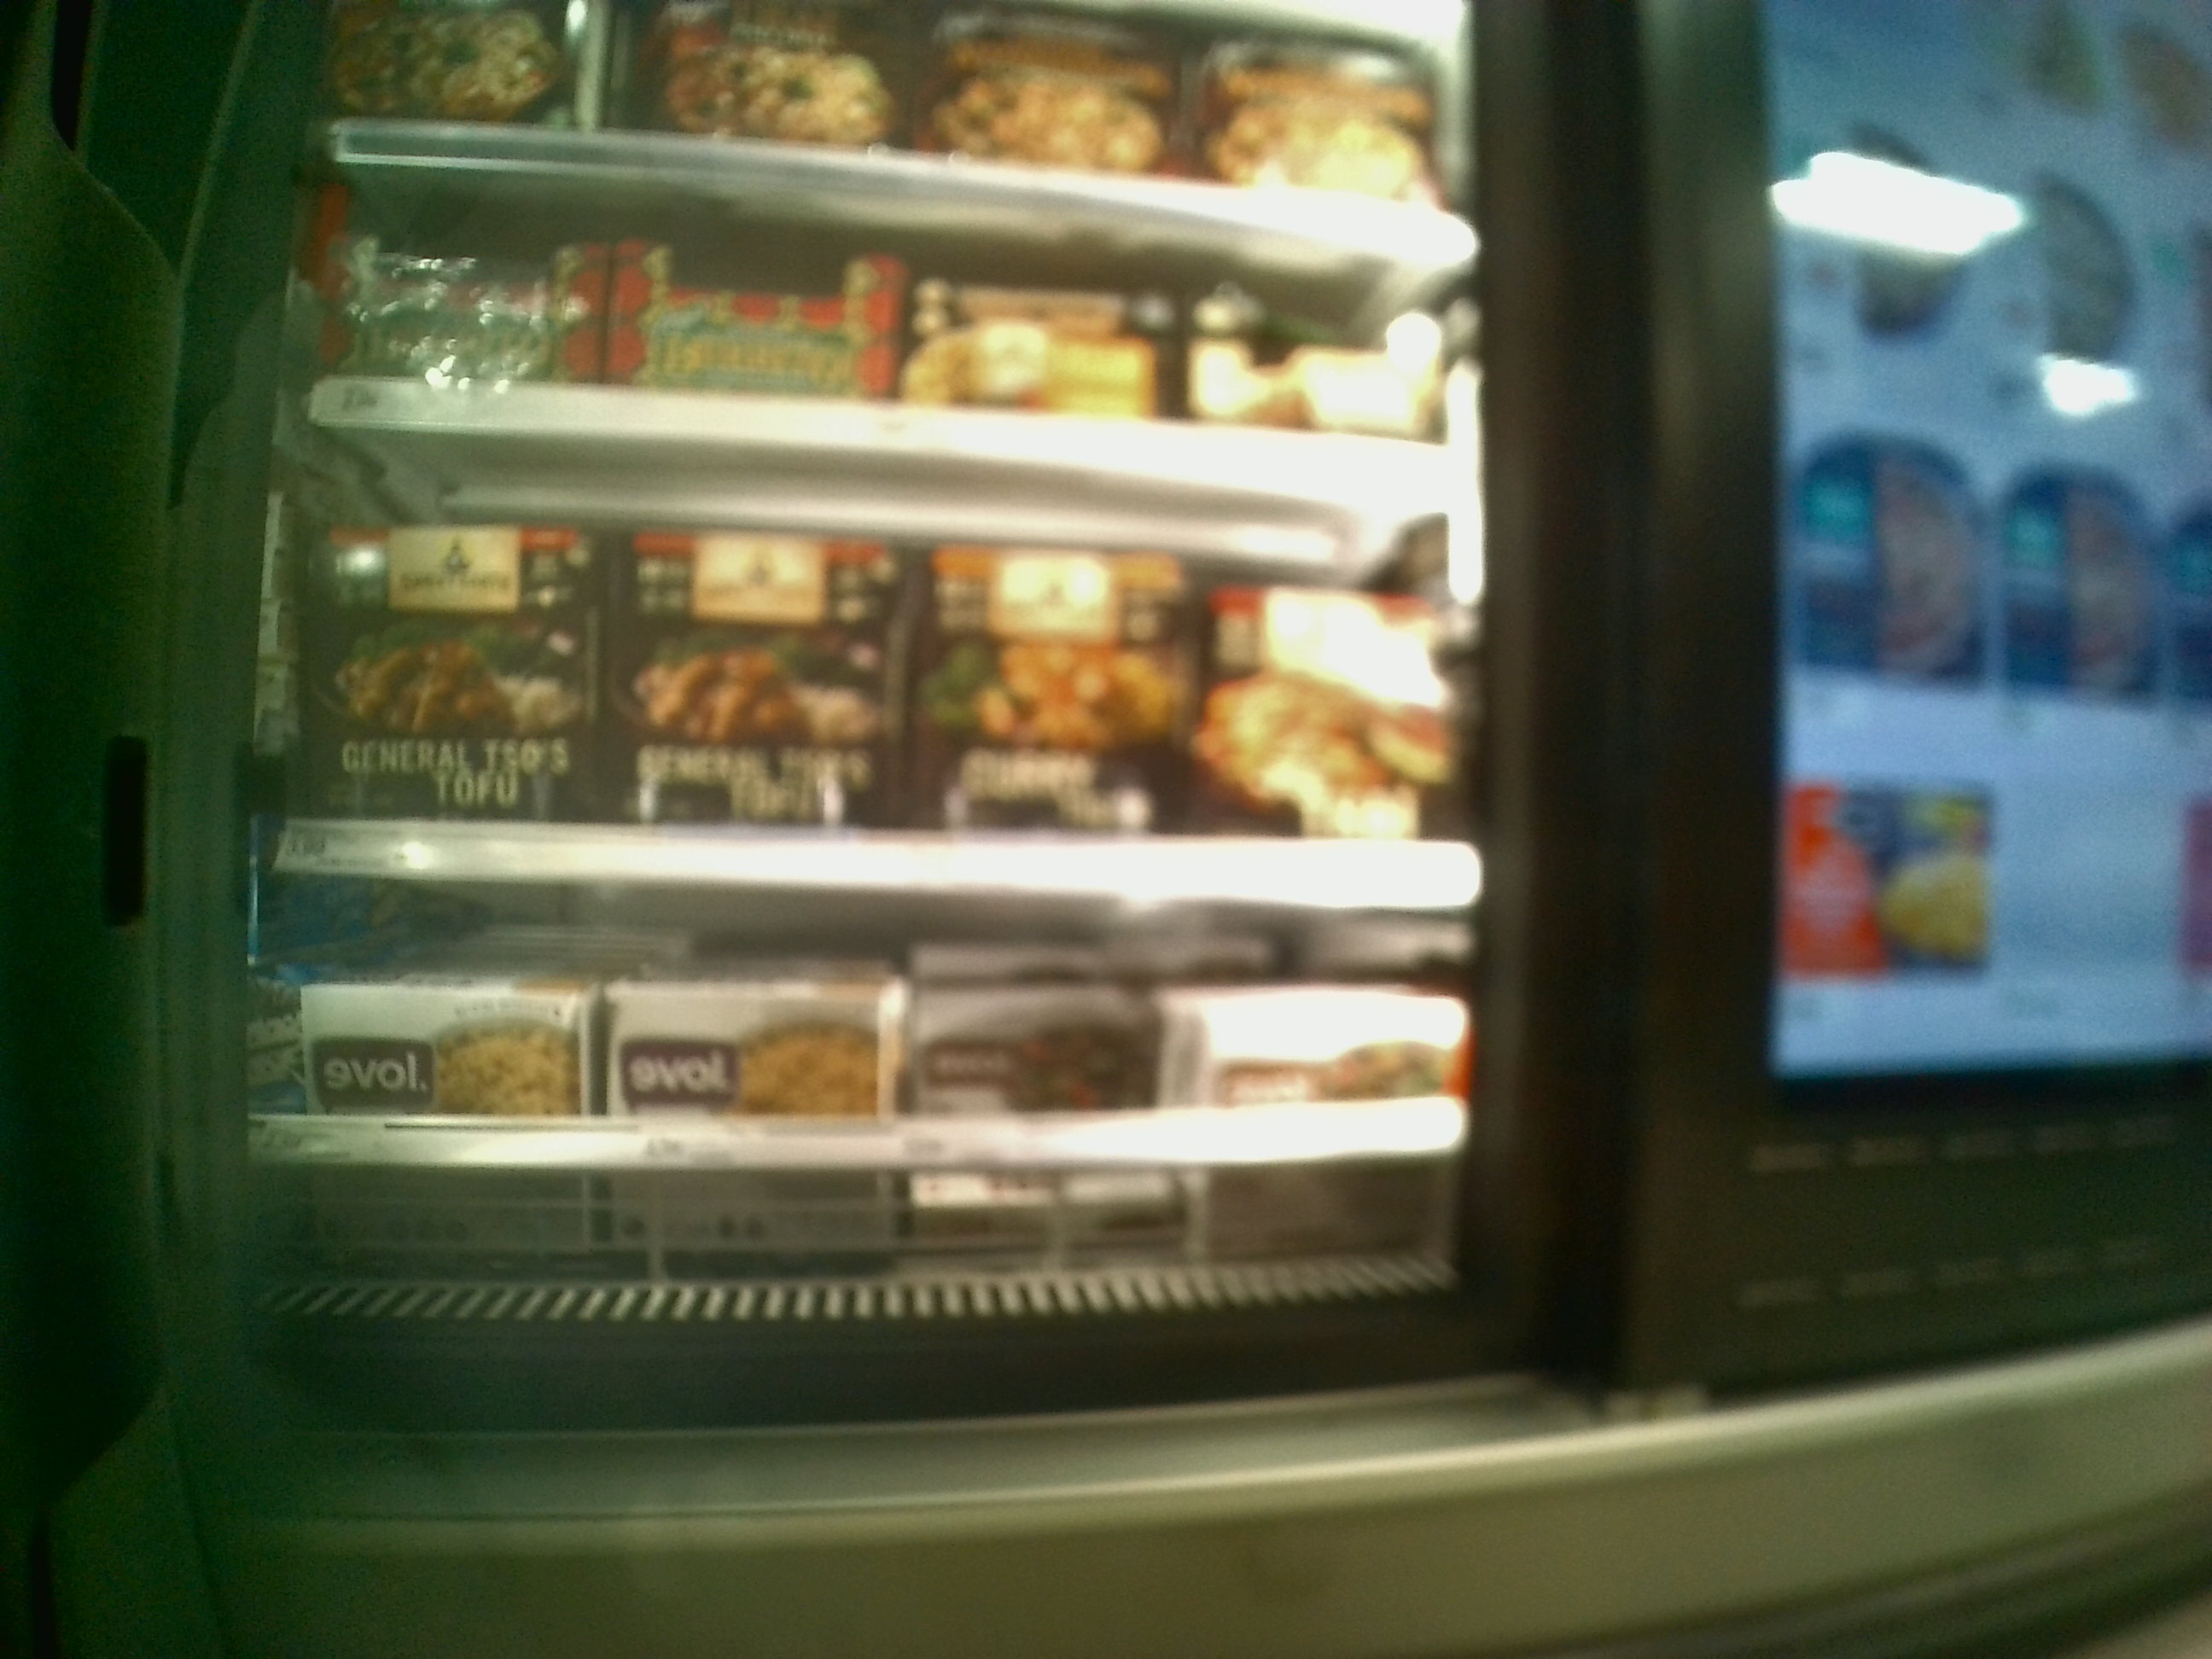frozen-food-shelf: (176, 476, 1493, 918), (171, 918, 1510, 1178)
